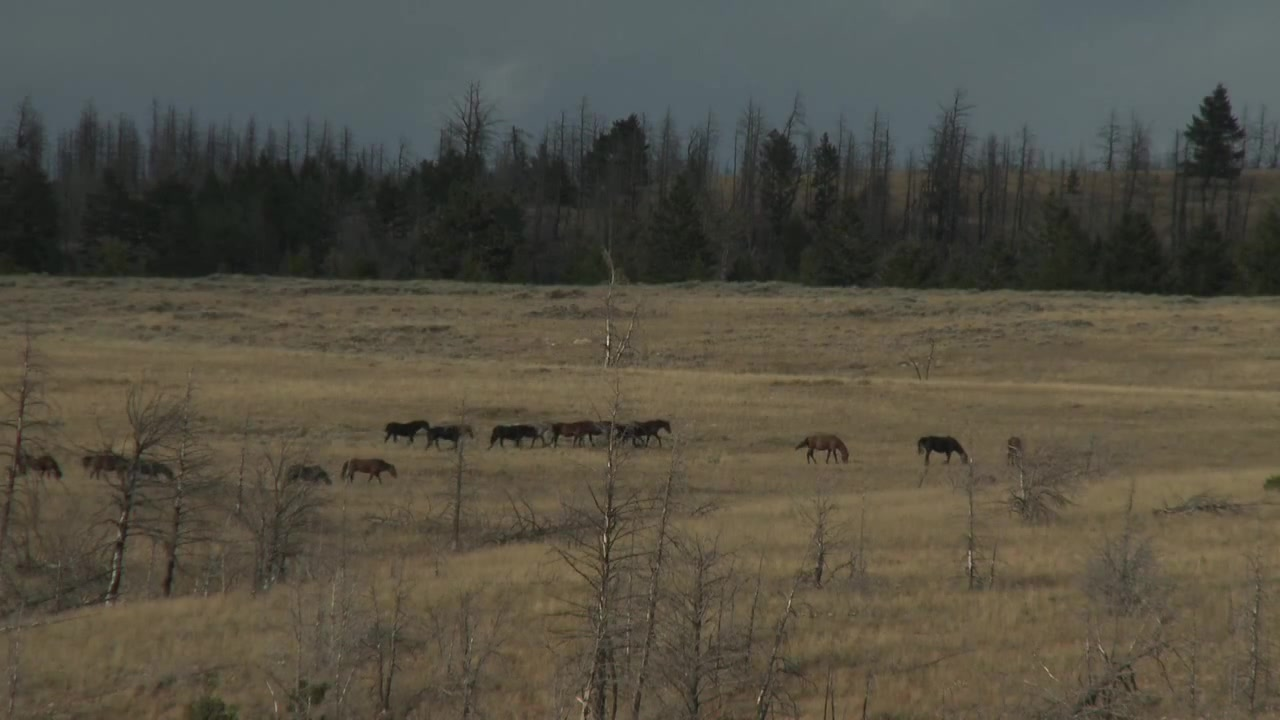horse: (914, 433, 971, 472), (794, 436, 854, 468), (552, 417, 610, 450), (80, 445, 136, 478), (342, 457, 399, 486), (15, 453, 68, 483), (287, 461, 336, 490), (604, 420, 653, 449), (431, 422, 481, 450), (486, 424, 541, 449), (382, 419, 432, 444), (642, 418, 681, 443), (134, 459, 180, 480)
